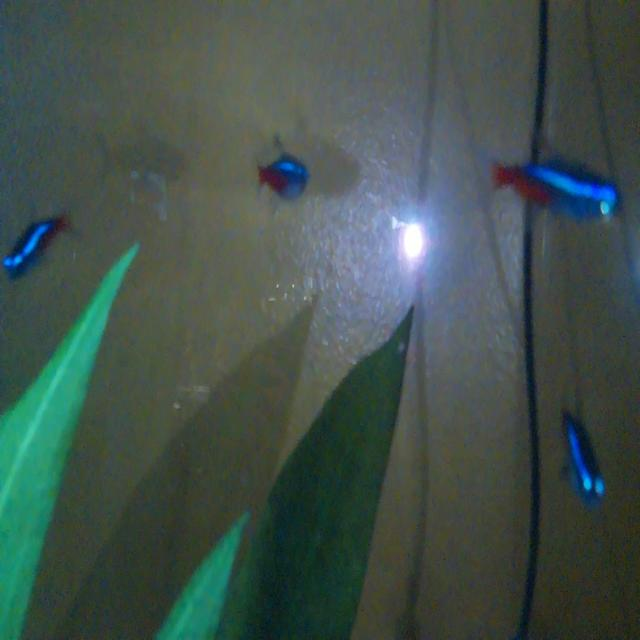fish: (487, 143, 625, 236), (546, 382, 614, 520), (0, 202, 76, 288), (248, 130, 315, 218)
